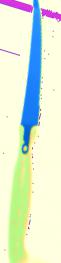Knife: (7, 1, 41, 263)
